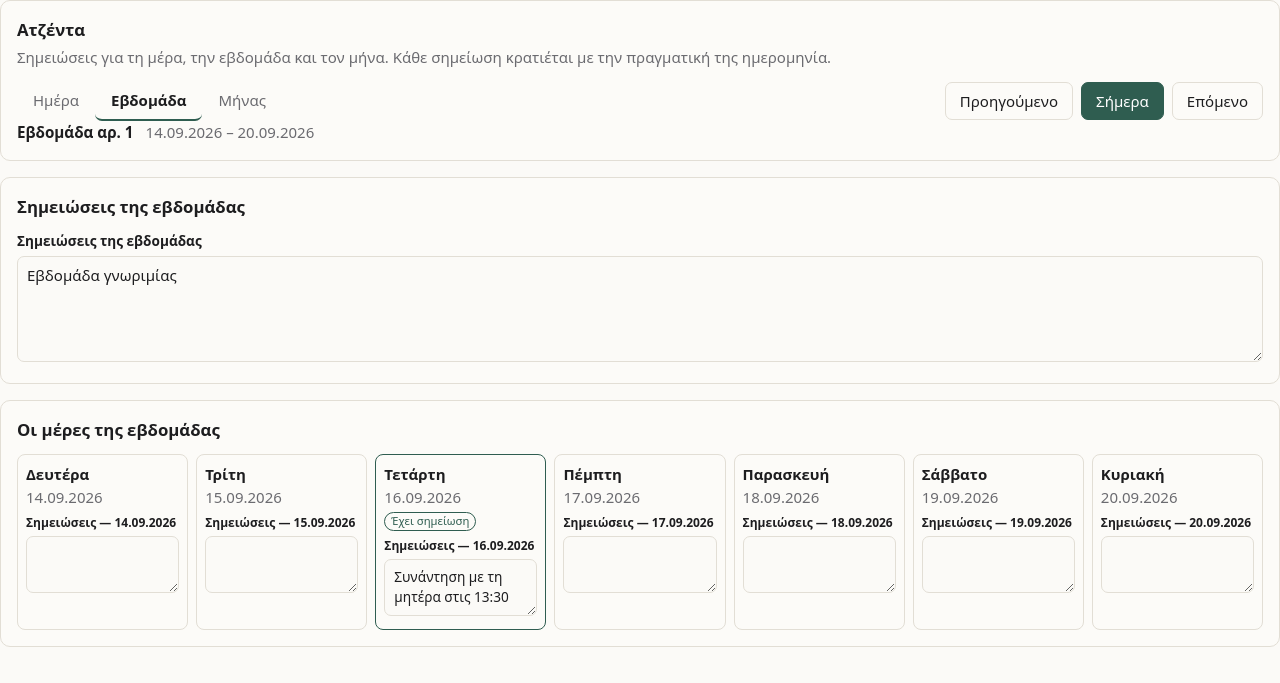
Test: the agenda › navigation › steps months with the 01 / 12 counter the source page carries
Click the button "Μήνας" at [242, 101], box x1=202 y1=81 x2=282 y2=121
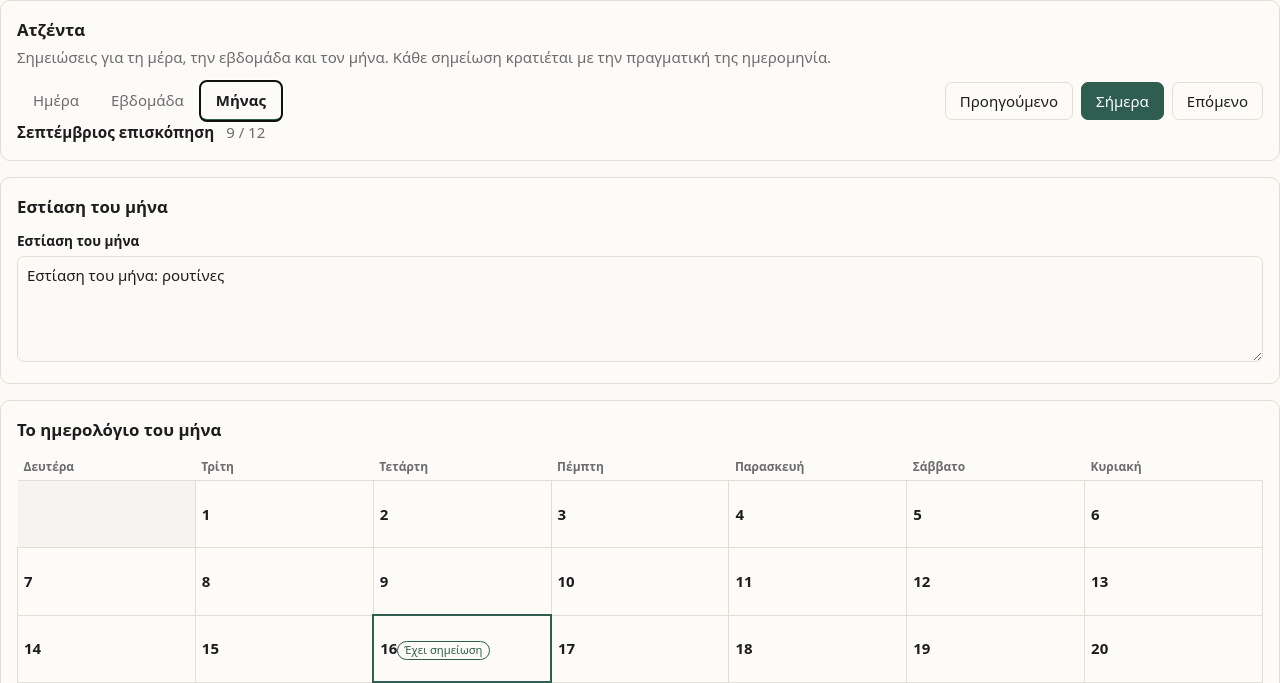
Check: the heading "Σεπτέμβριος επισκόπηση" is shown, box x1=17 y1=121 x2=214 y2=144
Check: the text "9 / 12" is shown, box x1=226 y1=121 x2=265 y2=144
Click the button "Επόμενο" at [1217, 101], box x1=1172 y1=82 x2=1263 y2=120
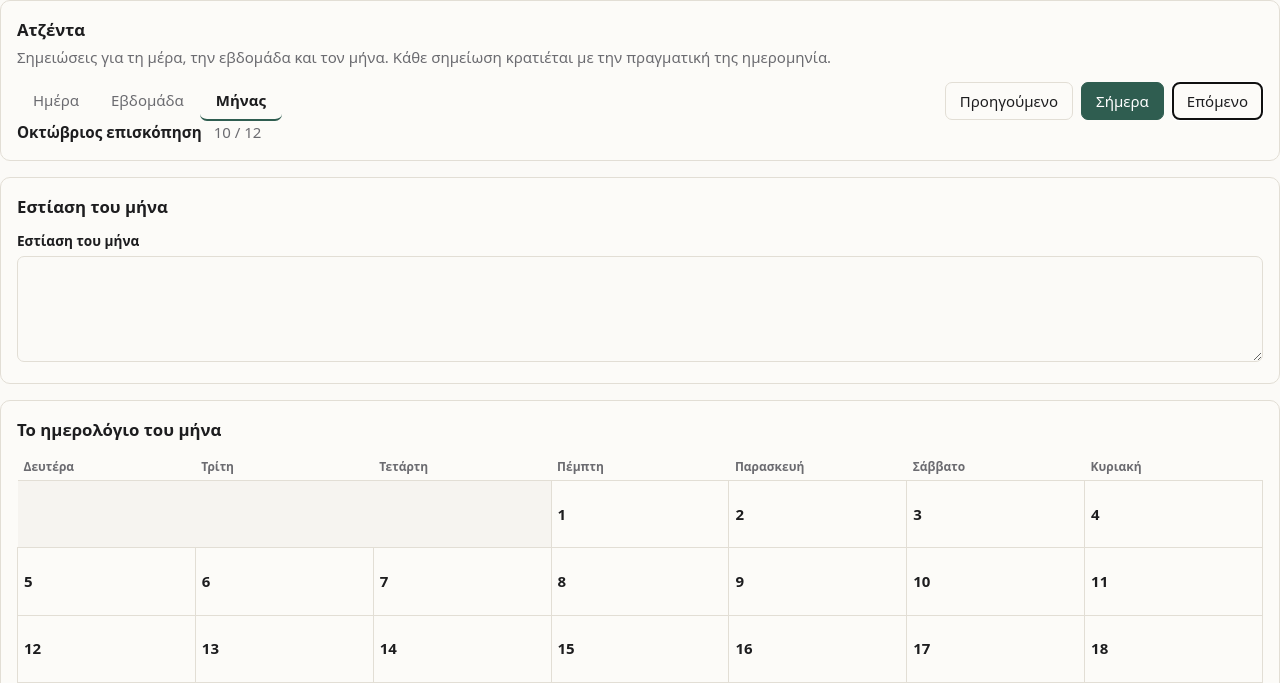
Check: the heading "Οκτώβριος επισκόπηση" is shown, box x1=17 y1=121 x2=202 y2=144
Check: the text "10 / 12" is shown, box x1=214 y1=121 x2=261 y2=144
